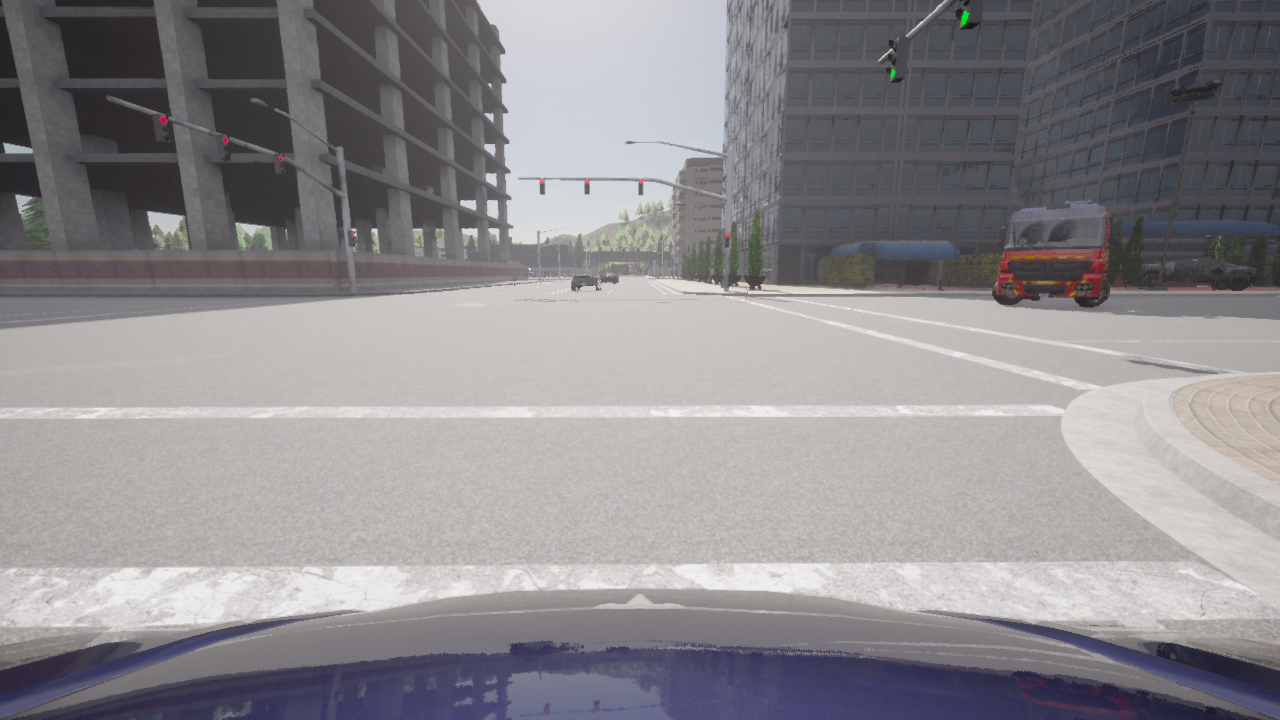cyclist: (0, 588, 1279, 719), (992, 199, 1120, 306), (1133, 258, 1258, 289), (572, 269, 602, 290), (601, 273, 615, 282), (1200, 259, 1219, 265), (1177, 259, 1197, 264), (607, 272, 618, 281), (535, 271, 545, 276), (551, 271, 558, 276), (528, 269, 532, 277), (543, 271, 549, 276), (1223, 263, 1233, 265), (533, 272, 534, 276)
pedestrian: (718, 262, 723, 288)
